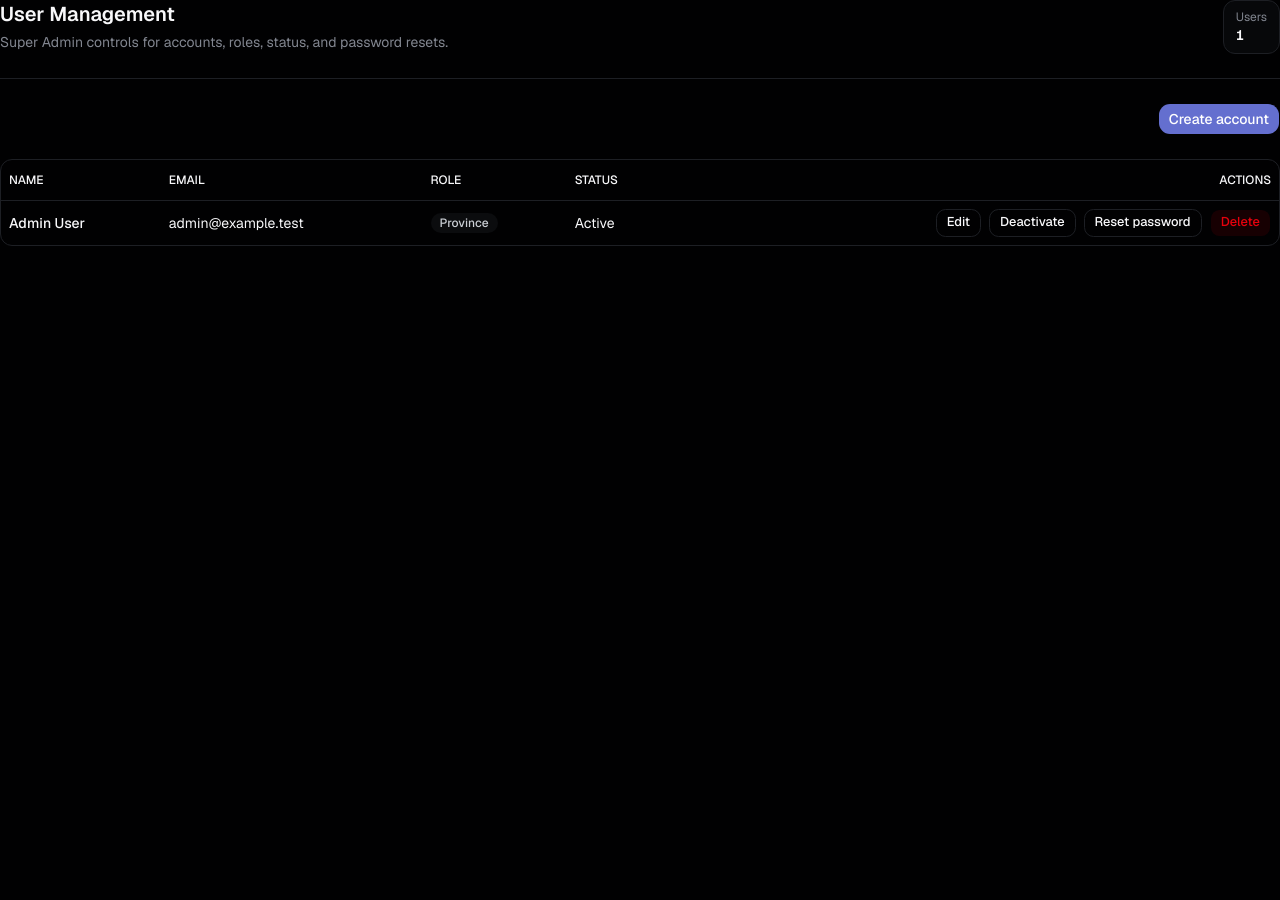
Scenario: UserManagementModule (J6) › copies the revealed temporary password to the clipboard
Click the button with aria-label "reset password for admin user". click: coordinates (1143, 222)
box: [1084,208,1202,236]
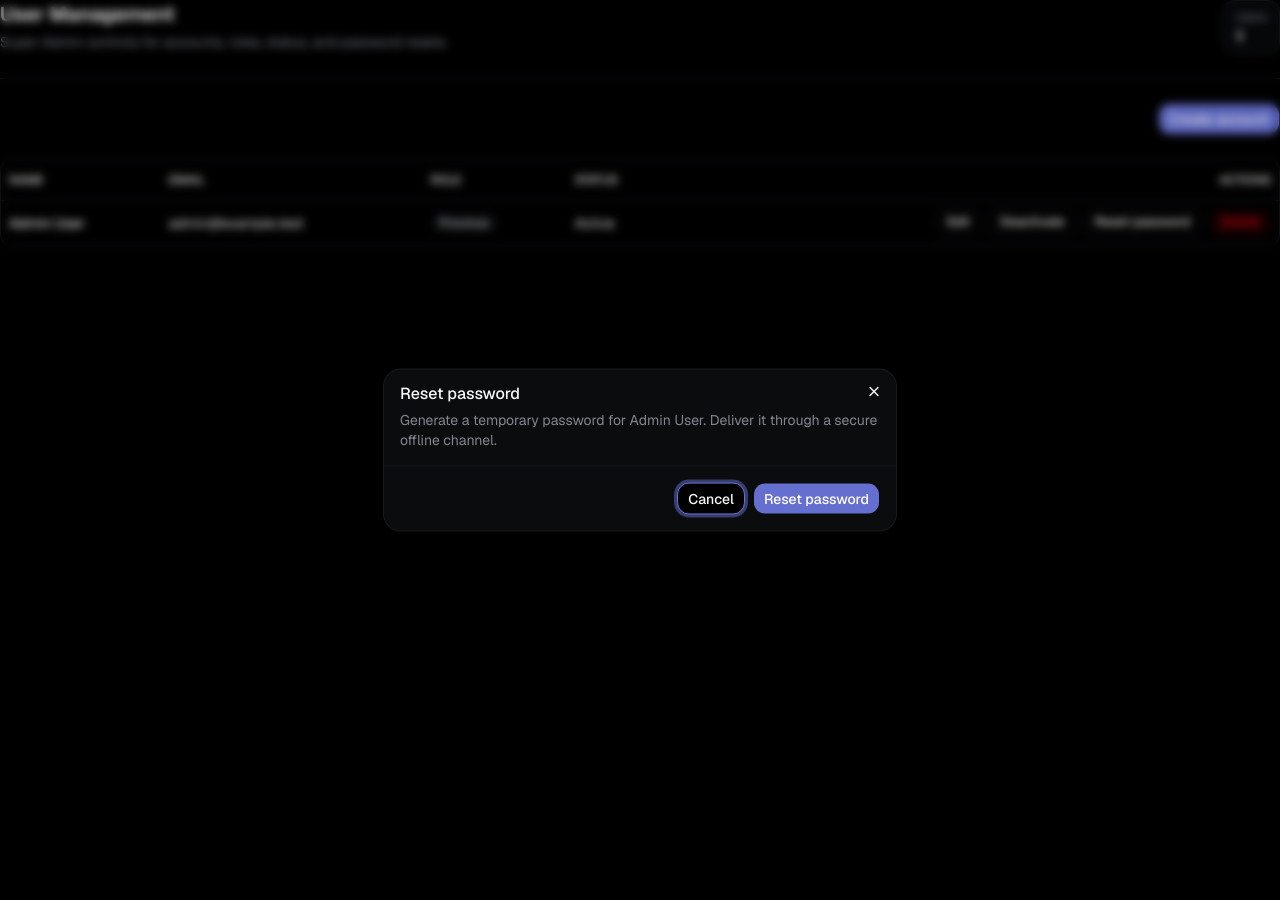
Click the button "Reset password". click: coordinates (816, 498)
box: [753,482,880,514]
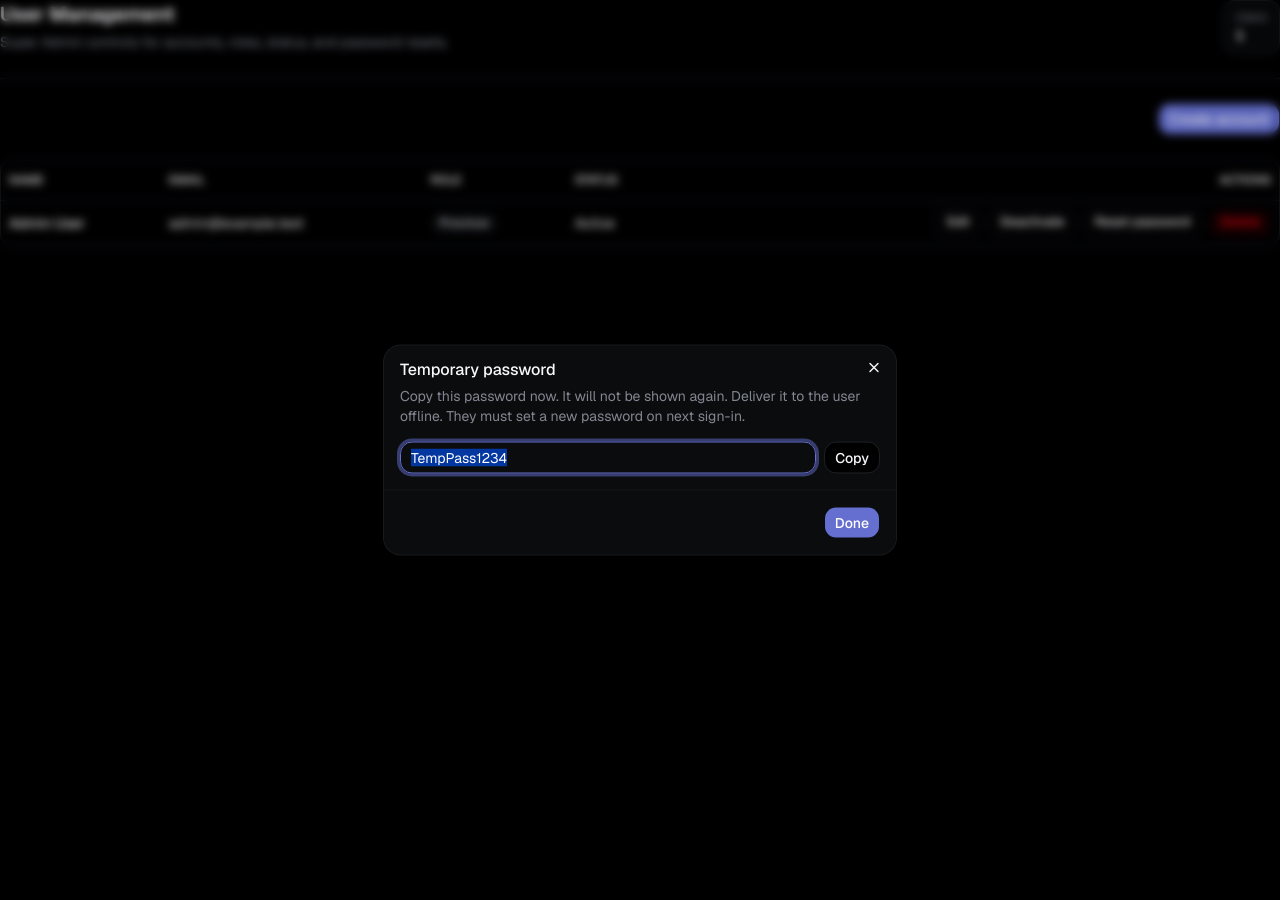
Click the button with aria-label "copy temporary password". click: coordinates (852, 458)
box: [824,442,880,474]
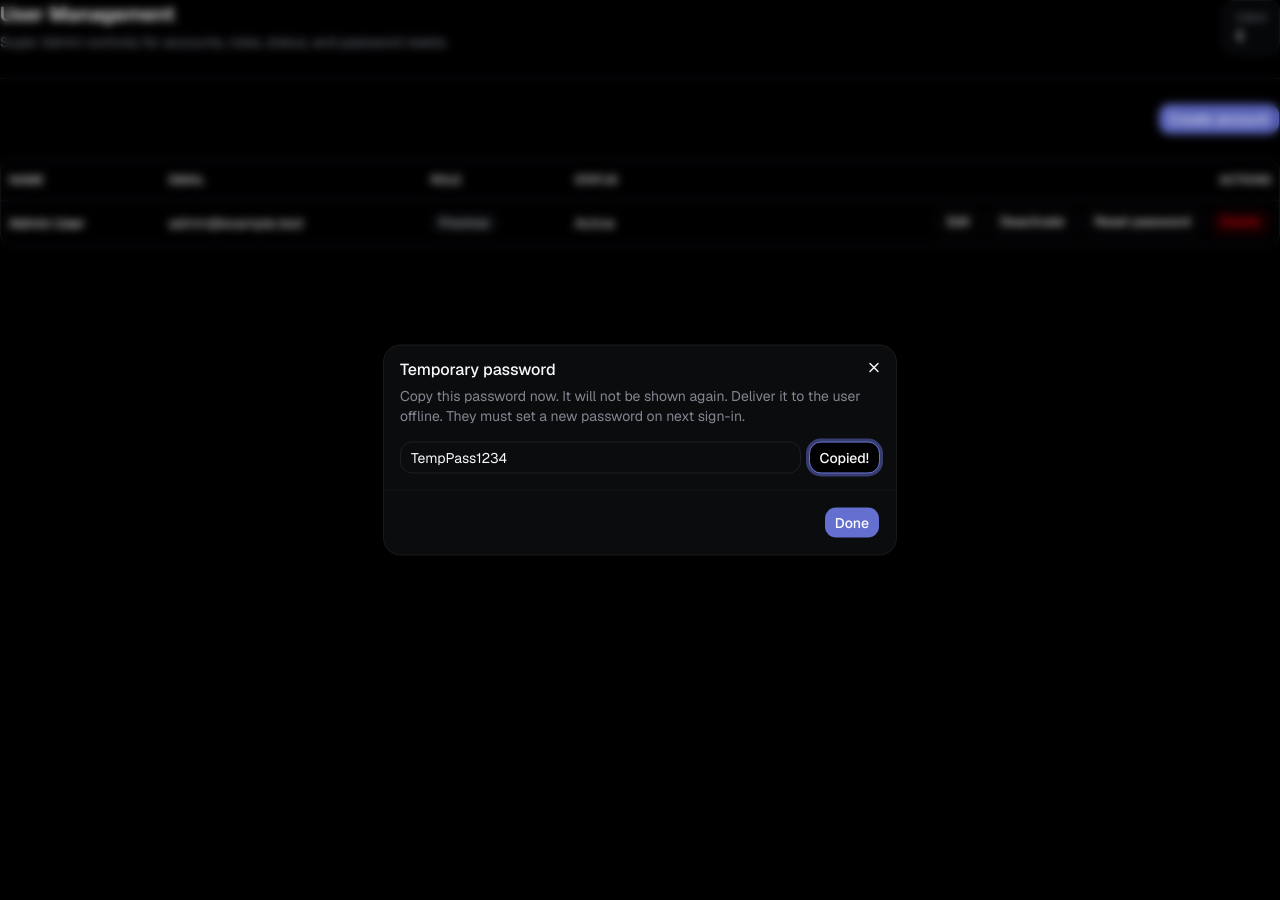
expect the button "Copied!" is shown: met, box [809,442,880,474]
